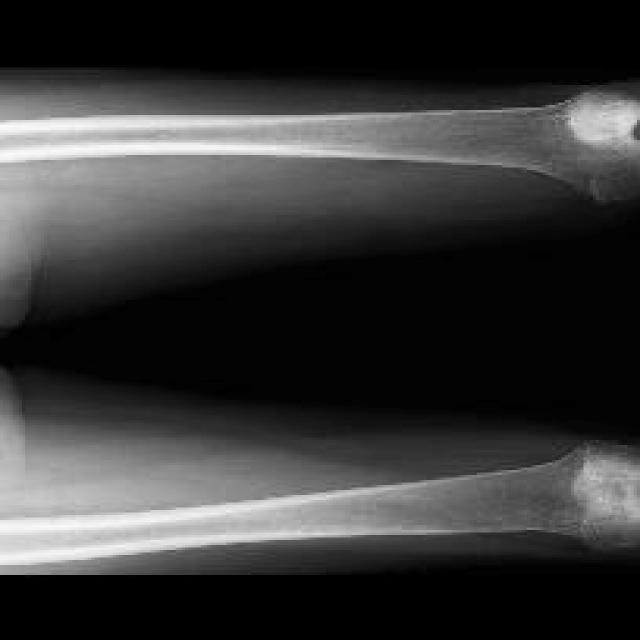normal: (2, 442, 638, 567), (2, 91, 638, 202)
